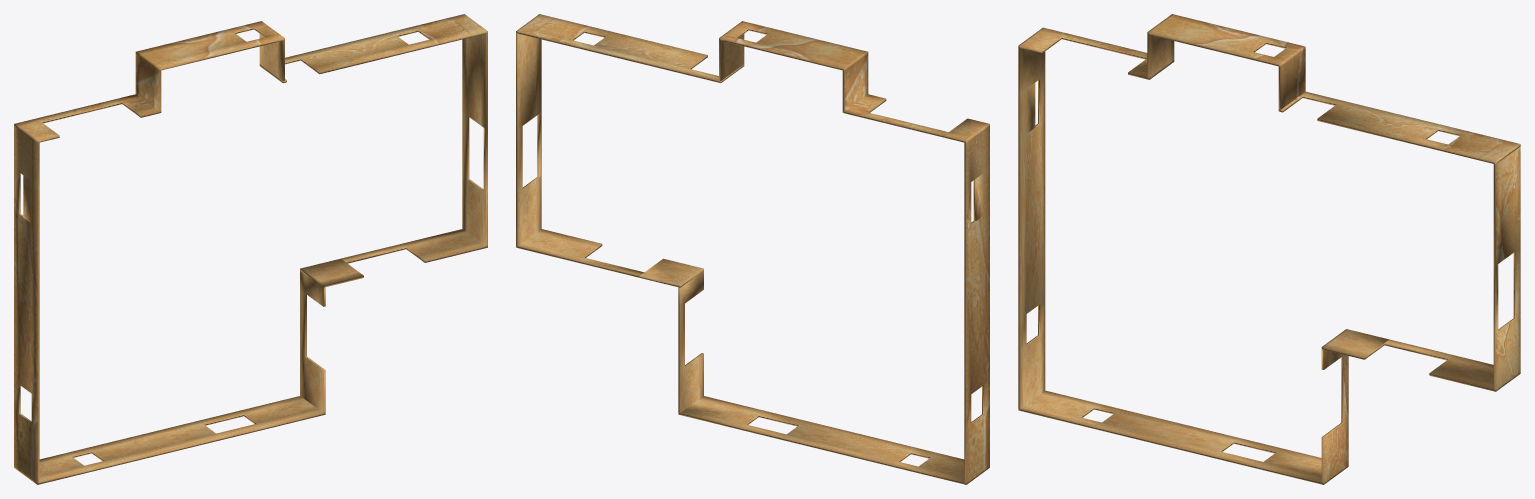
File: wall_5_2_outside_base_total_tex_v2.fbx
3 views of the same model, side by side, from view 1: azimuth 30°, elevation 25°; view 2: azimuth 150°, elevation 25°; view 3: azimuth 330°, elevation 25° (orthographic). The views are drawn at different scales.
Parts seen in each view (by area): view 1: Cube; view 2: Cube; view 3: Cube.
Boxes of the visible parts, x1=… form: Cube: x1=14, y1=14, x2=487, y2=484; Cube: x1=516, y1=14, x2=989, y2=484; Cube: x1=1018, y1=14, x2=1520, y2=484.
Bounding box in the file's own units: 0.111 × 0.091 × 0.01.
